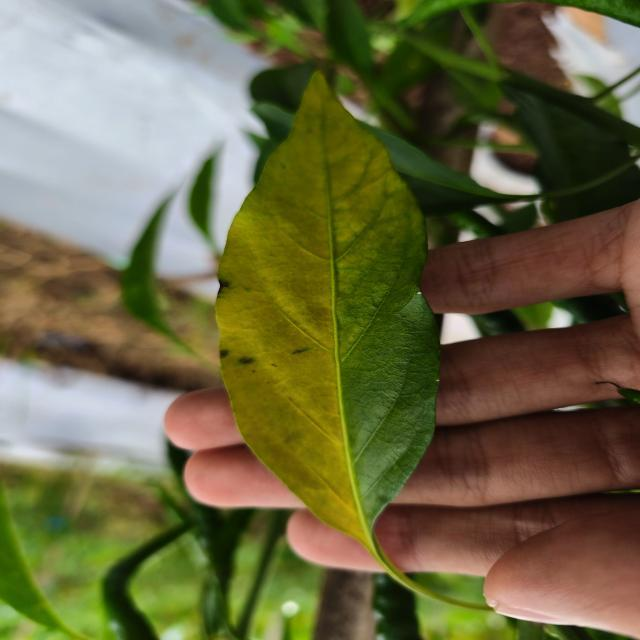Virus Kuning: (213, 70, 442, 535)
